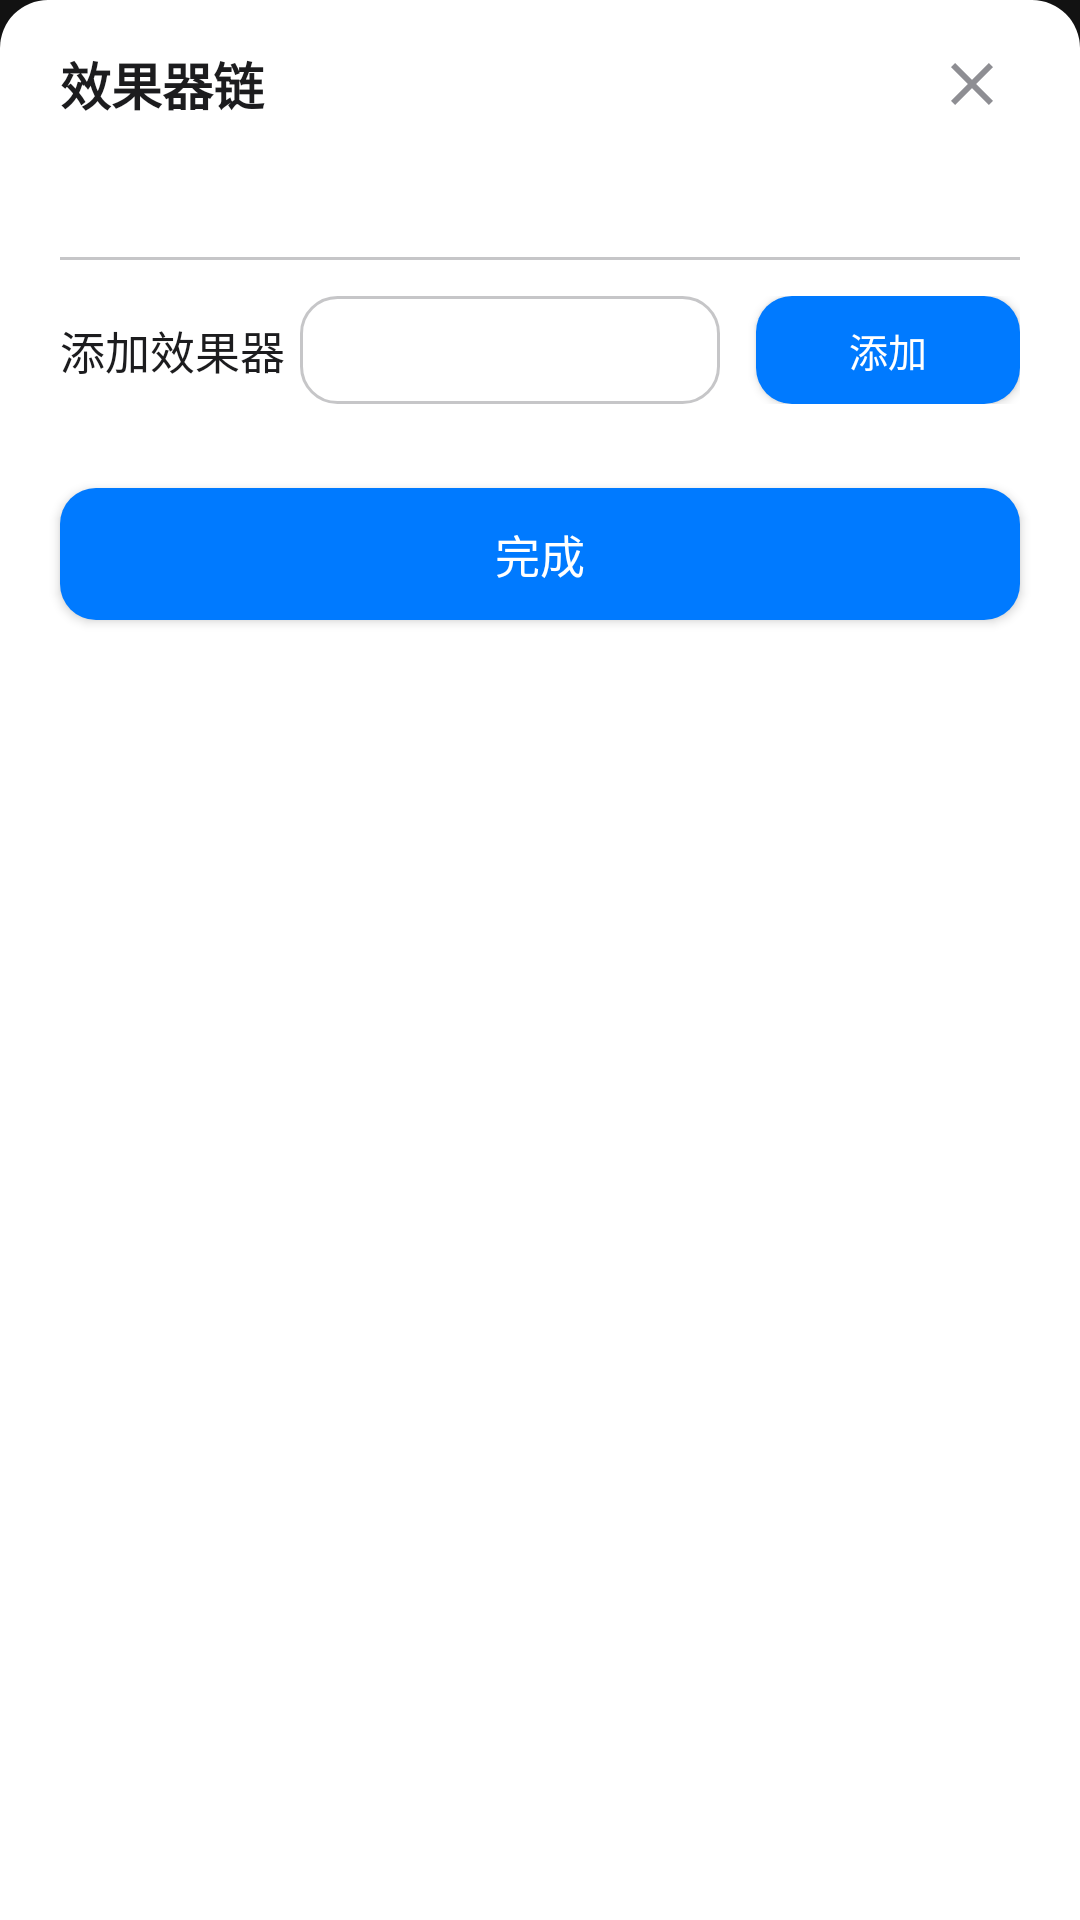

Icon bounding boxes for this 1080 × 1920 phone screenshot, format (x1, y1, x2, y2):
关闭: (951, 63, 993, 105)
